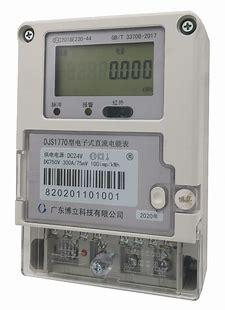digital: (13, 12, 199, 242)
